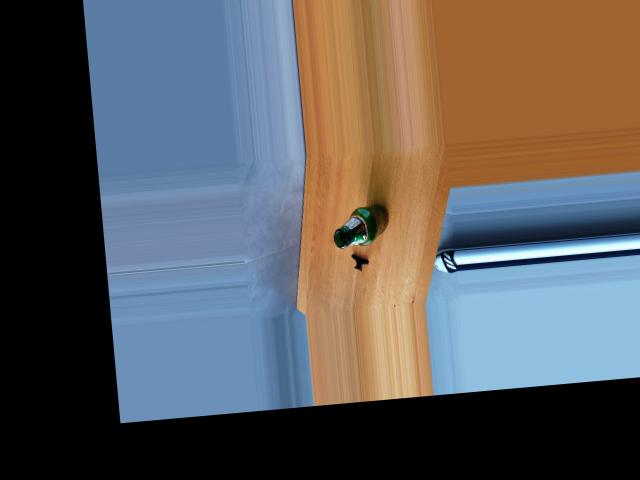beer: (331, 202, 391, 249)
